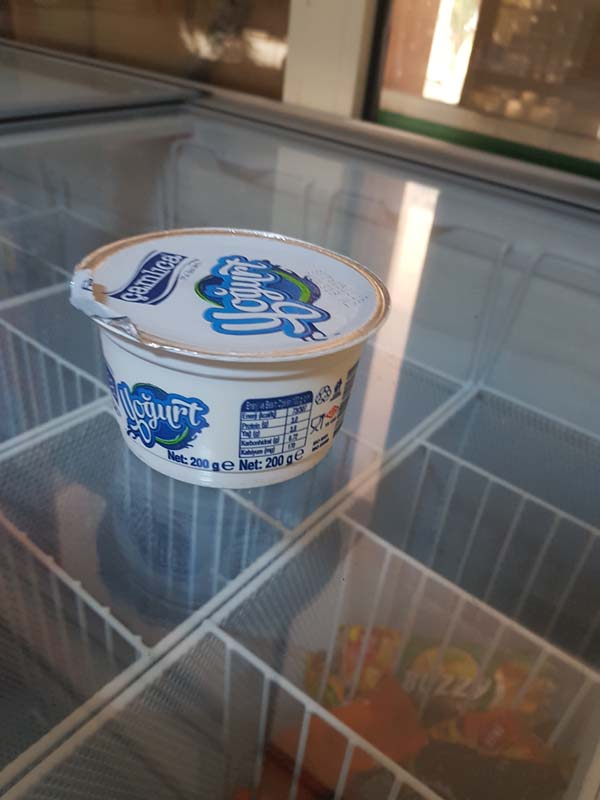camlicayogurt: (67, 225, 392, 490)
